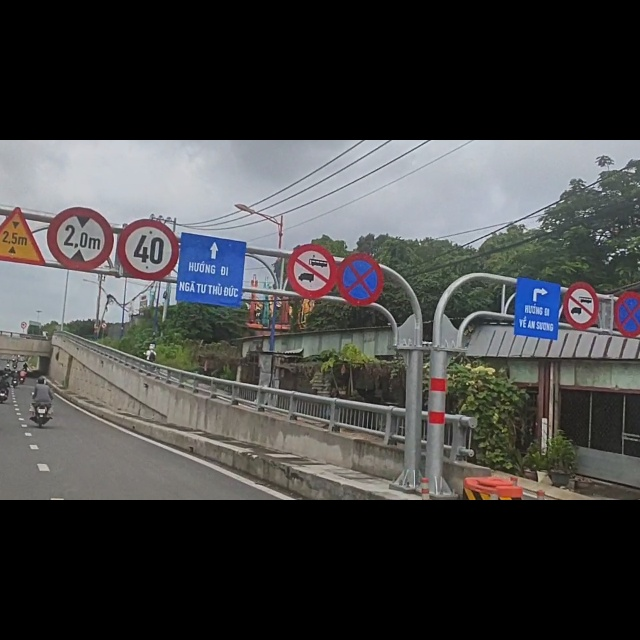bien_chi_dan: (47, 121, 114, 235), (119, 139, 178, 251), (286, 184, 338, 281), (1, 117, 45, 226), (339, 193, 383, 297), (563, 250, 600, 340), (615, 268, 640, 354)
